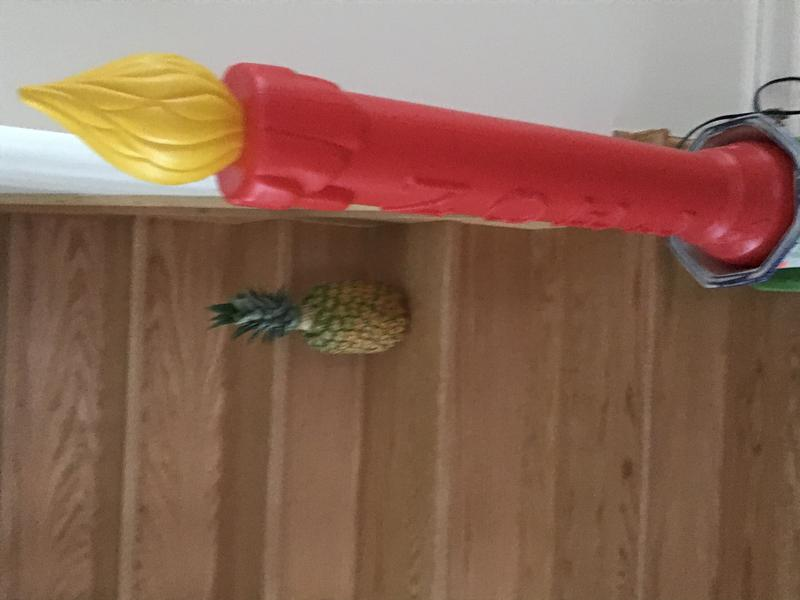pineapple: (200, 271, 419, 361)
